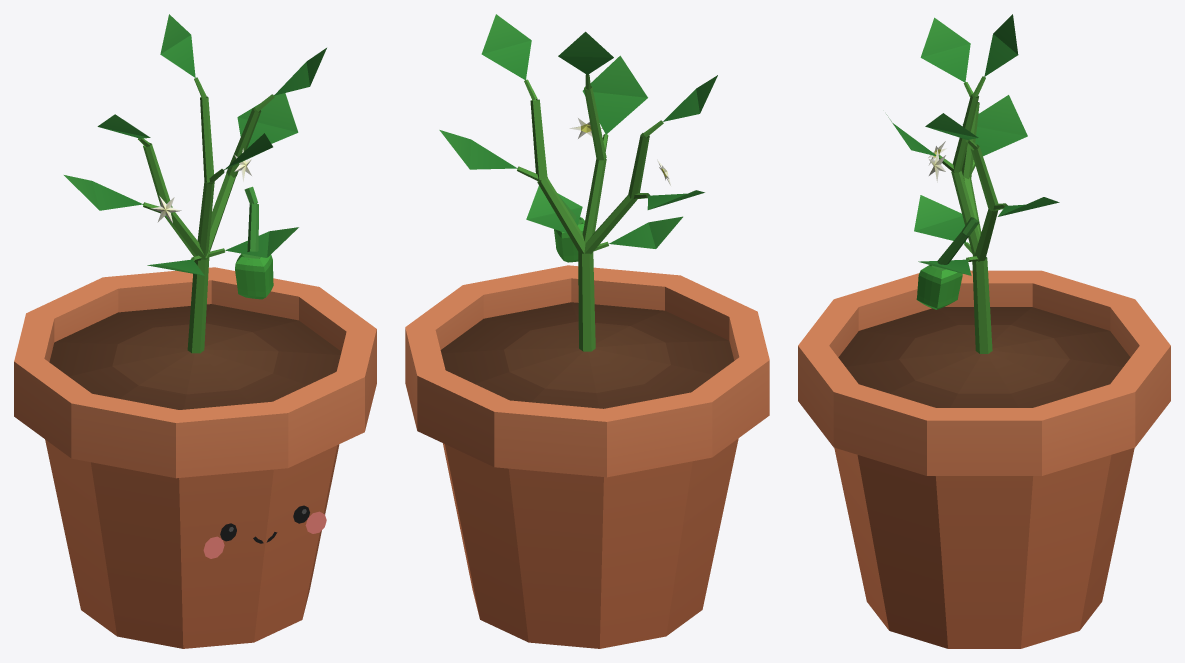
Rendered from cute_pepper_stage2.glb.
The picture shows the model from 3 angles, left to right: view 1: azimuth 30°, elevation 25°; view 2: azimuth 150°, elevation 25°; view 3: azimuth 270°, elevation 25°; orthographic projection.
Visible parts, largest first — view 1: PepperPlant; view 2: PepperPlant; view 3: PepperPlant.
Part boxes in pixels (x1,y1,x2,y2): PepperPlant: (14,14,376,648); PepperPlant: (405,14,769,648); PepperPlant: (798,14,1170,648).
Bounding box in the file's own units: 0.3766 × 0.6816 × 0.396.
